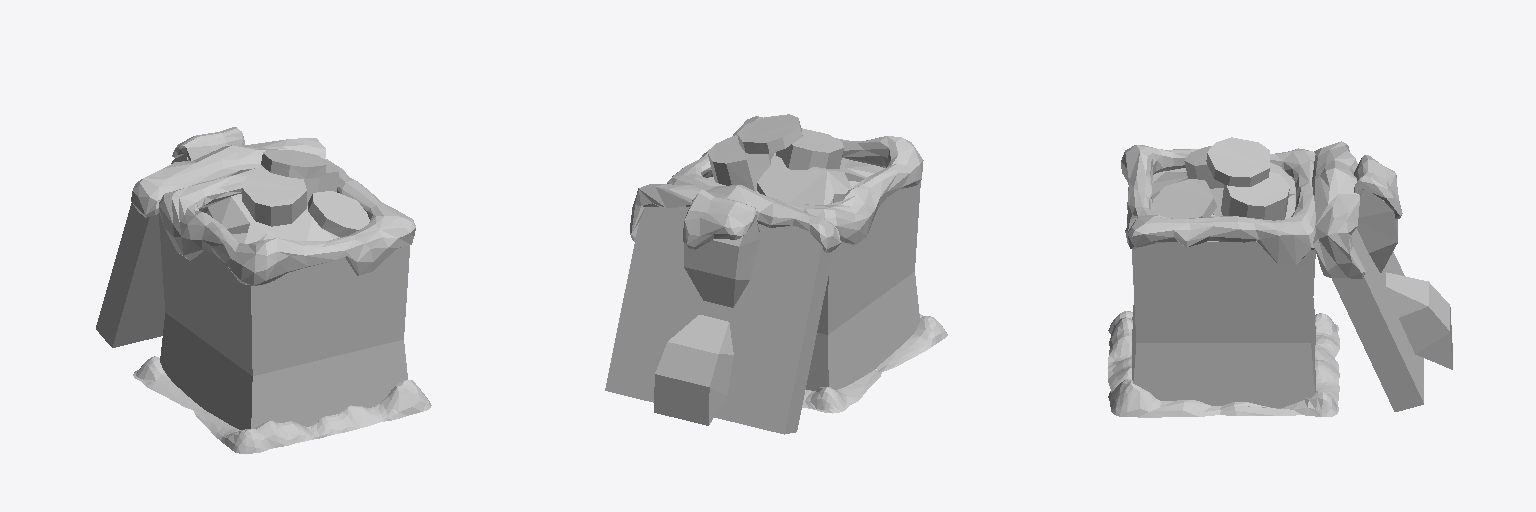
Rendered from Present Ice.obj.
3 renders of one model, left to right at view 1: azimuth 30°, elevation 25°; view 2: azimuth 150°, elevation 25°; view 3: azimuth 270°, elevation 25°, orthographic.
Parts seen in each view (by area): view 1: PresentIce1; view 2: PresentIce1; view 3: PresentIce1.
Part boxes in pixels (bbox=[...]): PresentIce1: bbox=[96, 127, 431, 453]; PresentIce1: bbox=[605, 114, 947, 434]; PresentIce1: bbox=[1108, 137, 1452, 417].
Bounding box in the file's own units: 5.54 × 6.05 × 8.24.